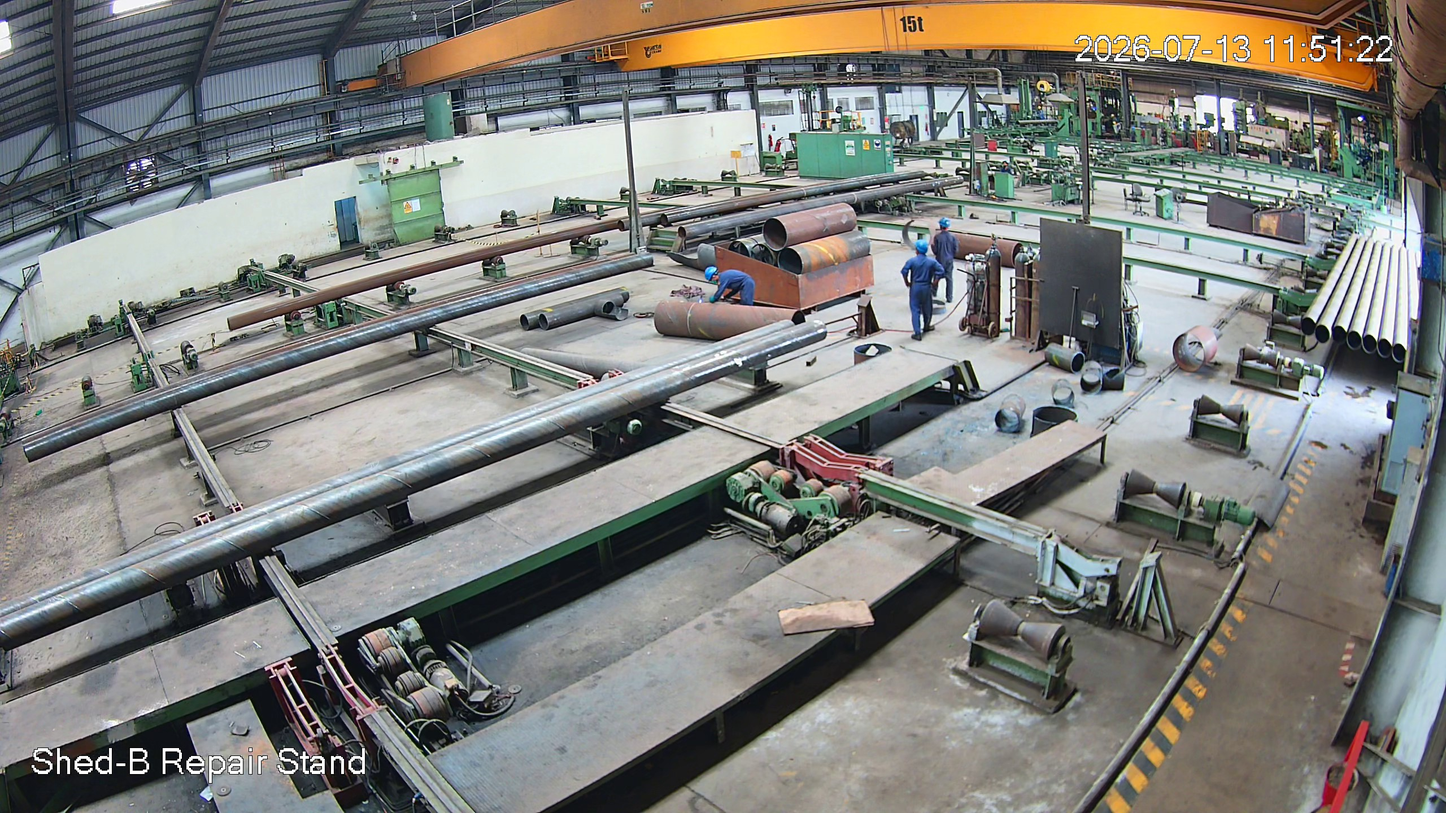Helmet: (911, 240, 932, 260), (703, 264, 721, 283), (937, 218, 954, 234)
Person: (905, 242, 942, 337), (702, 266, 758, 312), (932, 220, 959, 303)
